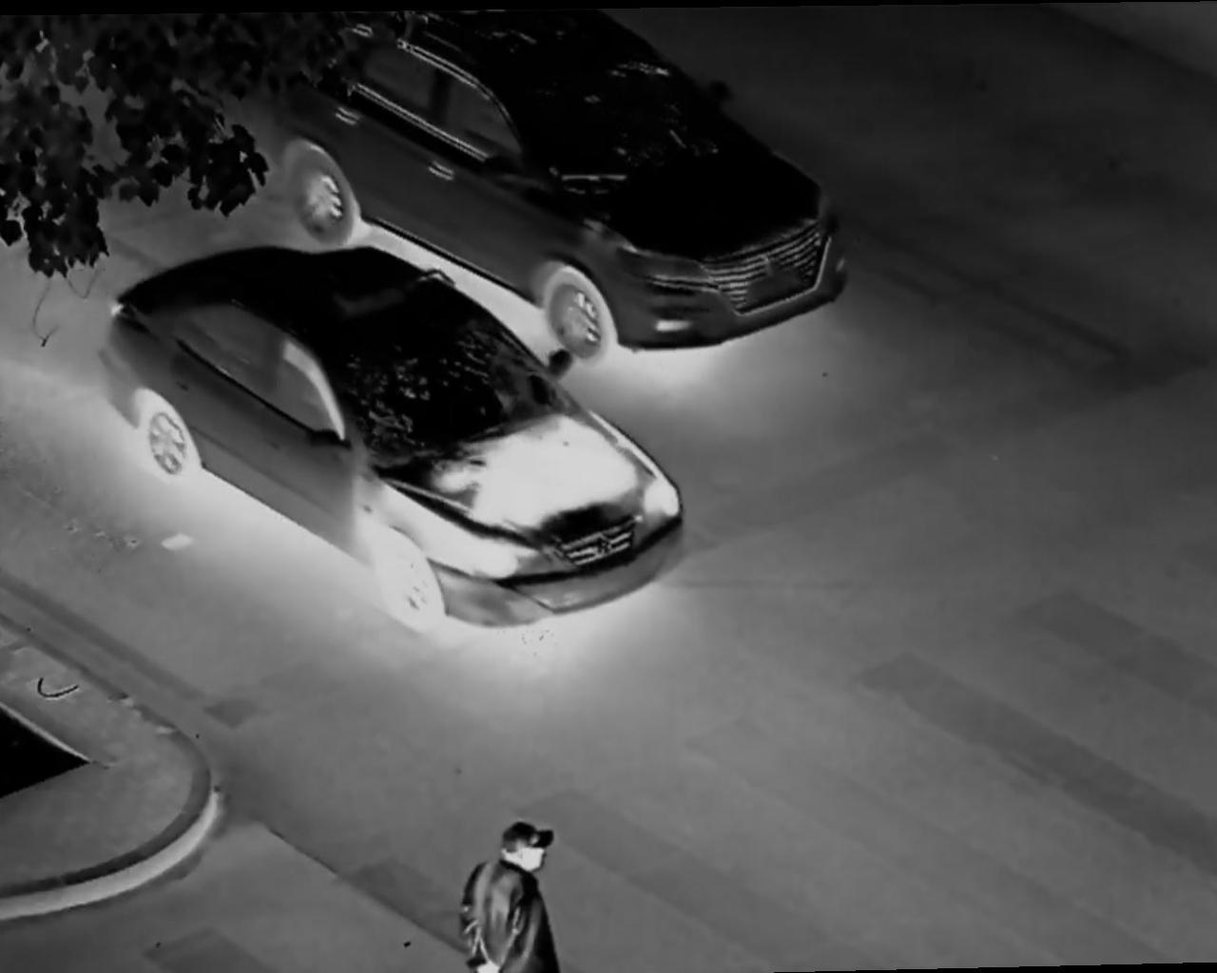person: (449, 817, 565, 973)
